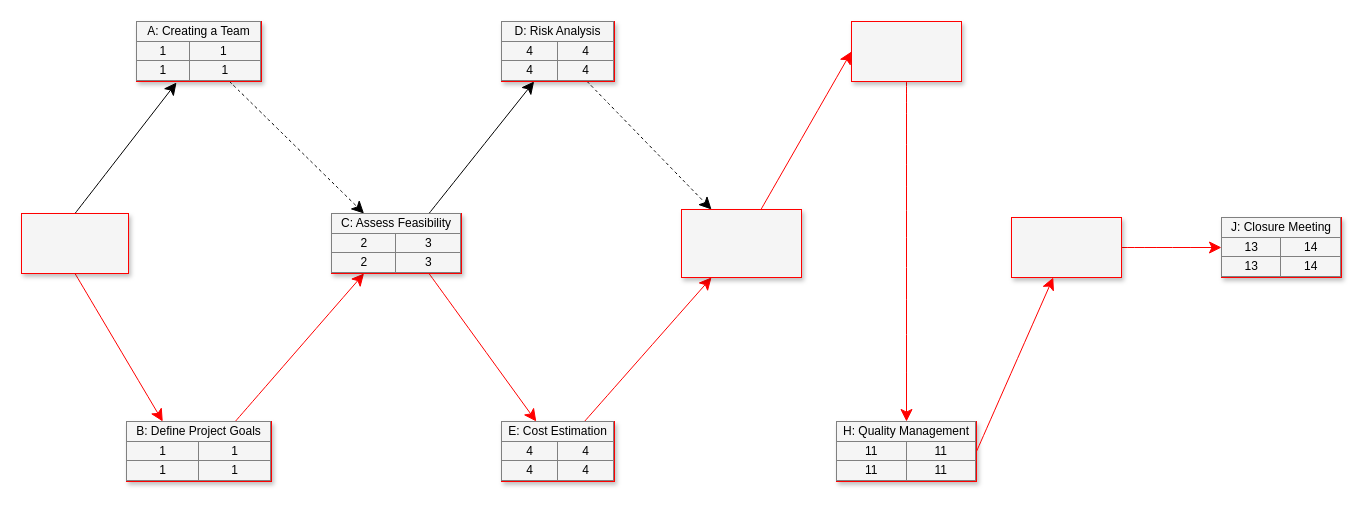
Some shapes in this 1365 by 506 pixel diagram are drawn without their labels. The centre of each missing label's shape, as x and y in pixels:
F: Create Schedule and Task Plan 5 5 5 5: (x=742, y=244)
G: Execution 6 10 6 10: (x=907, y=52)
I: Project Report 12 12 12 12: (x=1067, y=248)
Project Start 0 0 0 0: (x=75, y=244)
